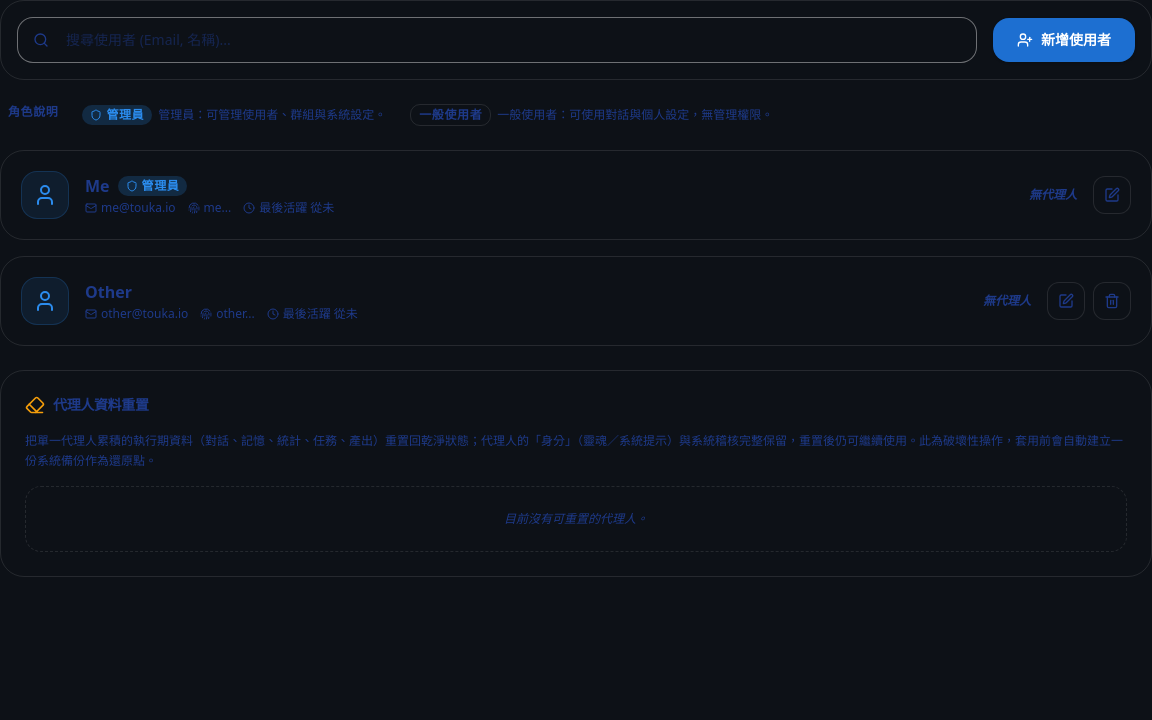
Test: UsersTab 自我保護（P1） › 編輯自己時 Role 下拉被停用（防自我降級）
// me 是第一列；點其編輯鈕進入編輯模式
What coordinates should you click on to do the following:
click the button titled "編輯資料" in the row of "me@touka.io"
I would click on:
 (1112, 195)
Its box is [1093,176,1131,214].
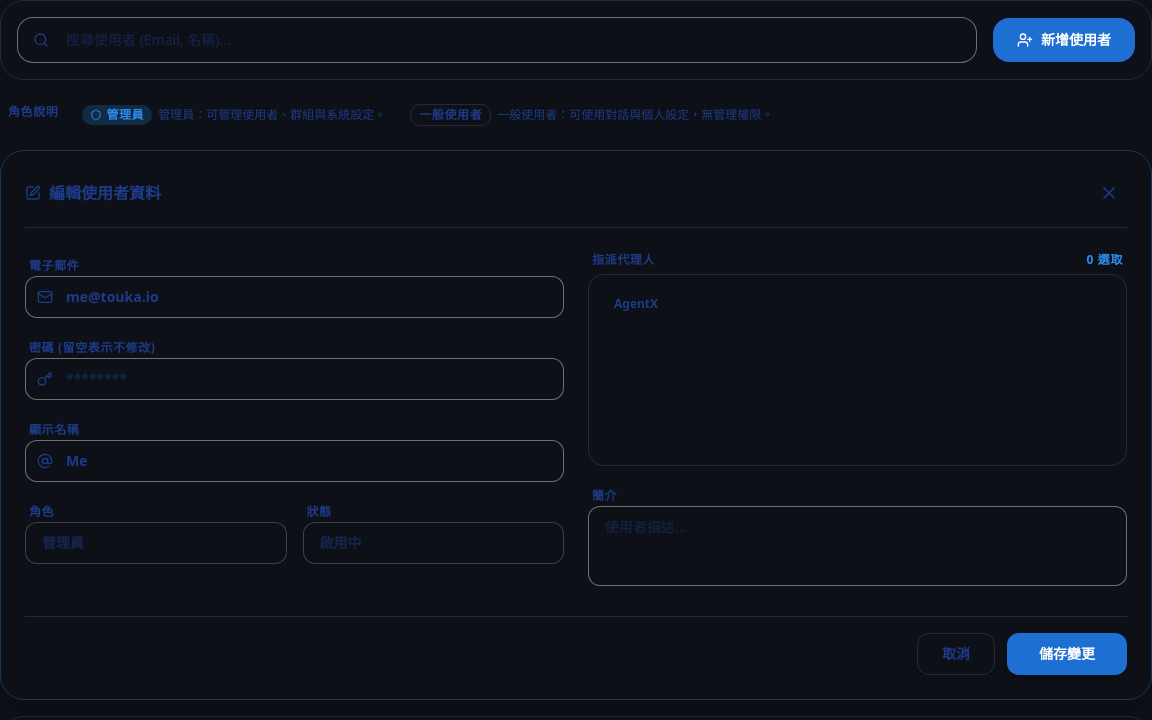
Check: the dropdown showing "管理員" is disabled, box [25,522,286,564]
